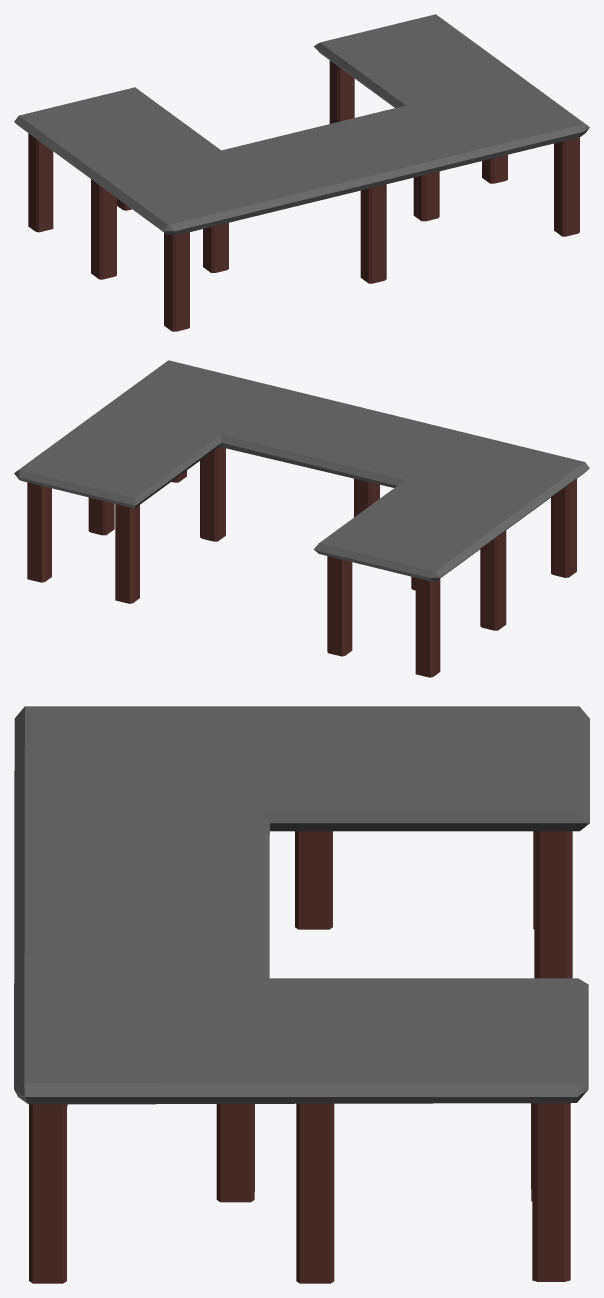
File: stone_U_table.fbx
3 renders of one model, top to bottom at view 1: azimuth 30°, elevation 25°; view 2: azimuth 150°, elevation 25°; view 3: azimuth 270°, elevation 25°, orthographic. The views are drawn at different scales.
Visible parts, largest first — view 1: stone_table.001; view 2: stone_table.001; view 3: stone_table.001.
Boxes of the visible parts, box(x1,y1,x2,y2) form: stone_table.001: box(14, 14, 589, 331); stone_table.001: box(14, 360, 589, 677); stone_table.001: box(14, 706, 589, 1283).
Size of the model in its own units: 196 by 48.16 by 124.
